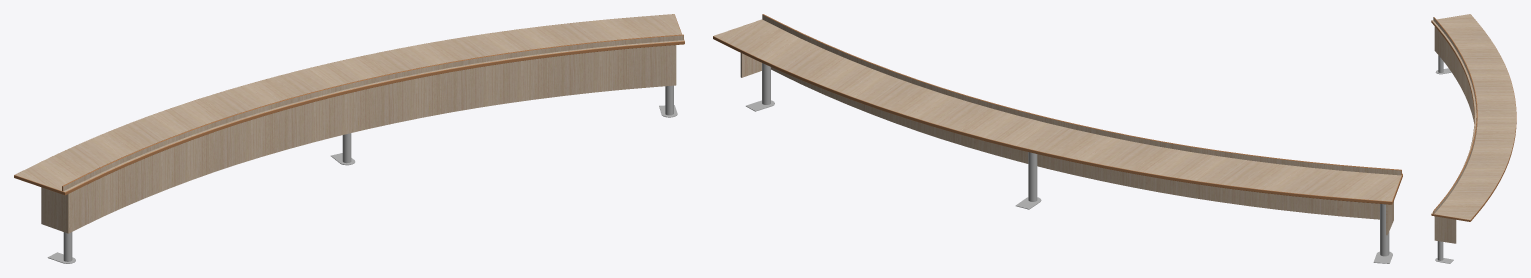
The model's file is CenterTableD.fbx.
The picture shows the model from 3 angles, left to right: view 1: azimuth 30°, elevation 25°; view 2: azimuth 150°, elevation 25°; view 3: azimuth 270°, elevation 25°; orthographic projection. The views are drawn at different scales.
Visible parts, largest first — view 1: CenterTableD; view 2: CenterTableD; view 3: CenterTableD.
Part boxes in pixels (x1,y1,x2,y2): CenterTableD: [14, 14, 684, 263]; CenterTableD: [713, 14, 1402, 263]; CenterTableD: [1431, 14, 1516, 263].
Bounding box in the file's own units: 732 × 85.99 × 128.
3 materials, 1 textured.
